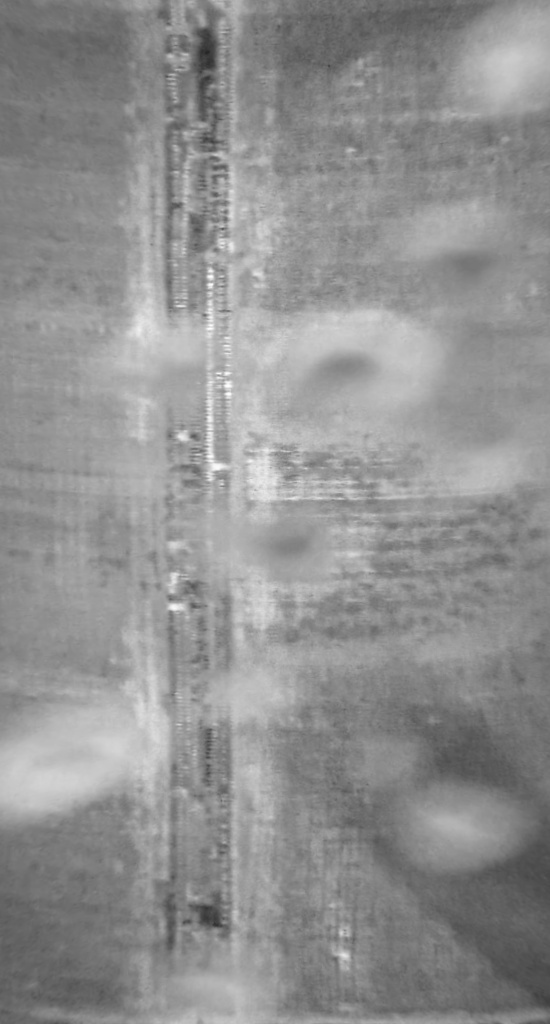splice: (151, 1, 248, 1023)
